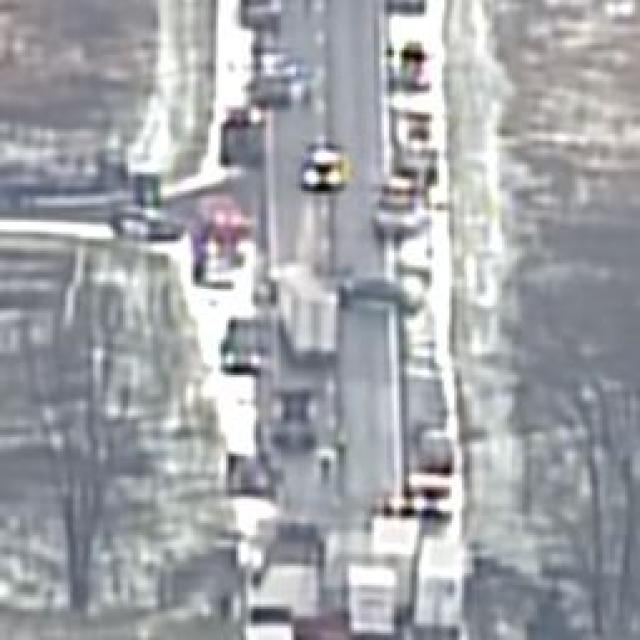traffic_incident: (256, 251, 427, 346)
